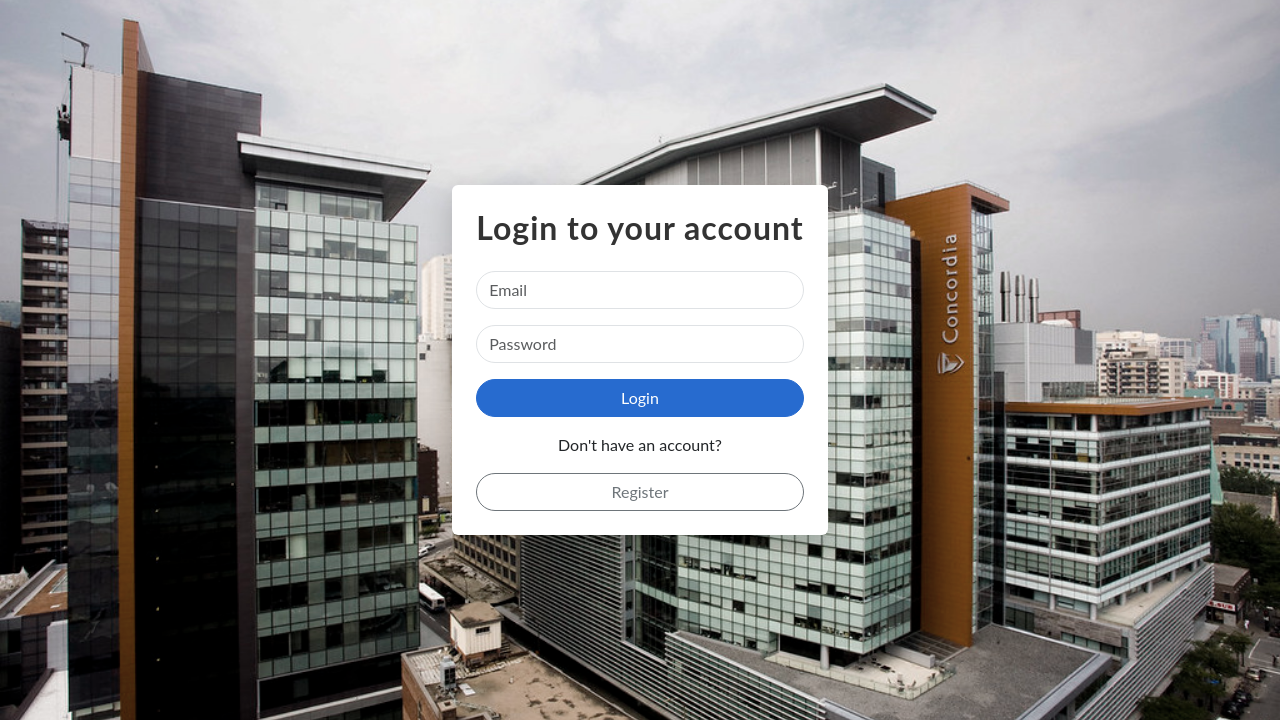
Test case: shows error message on invalid credentials
Type "invalid@example.com" into the field with placeholder "Email" at (640,290), box [476,271,804,309]
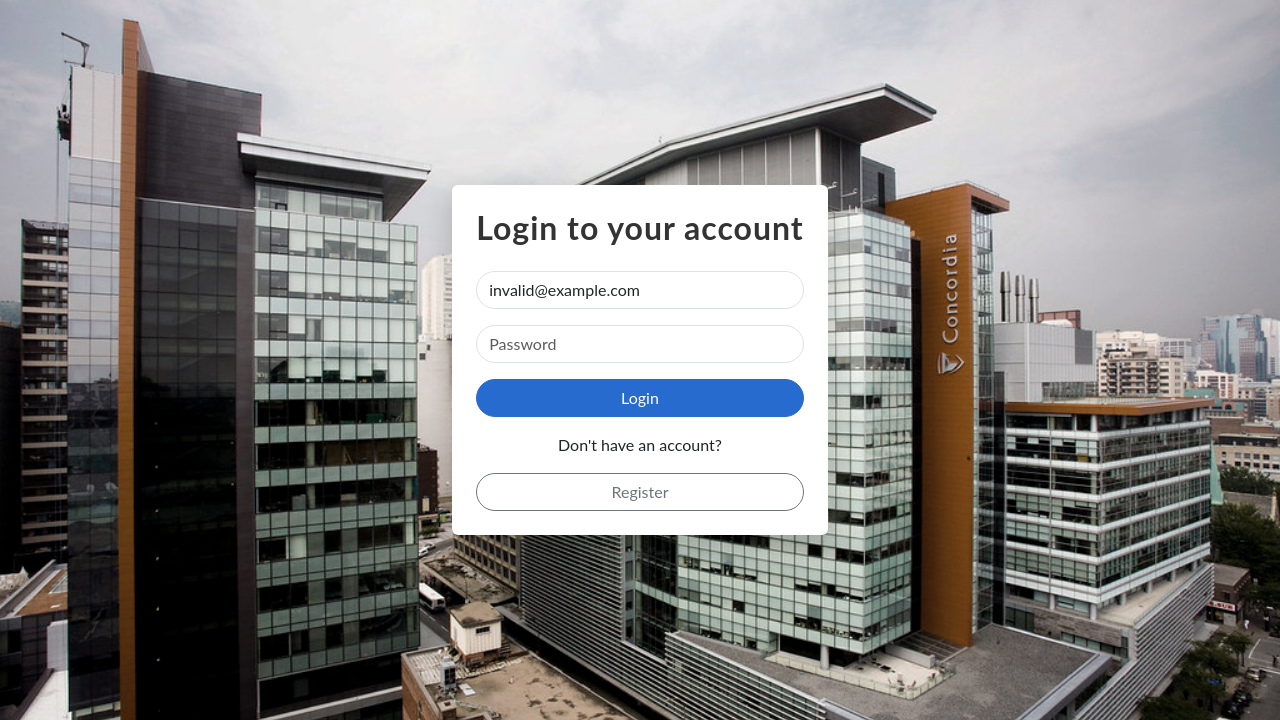
Type "wrongpassword" into the password field with placeholder "Password" at (640,344), box [476,325,804,363]
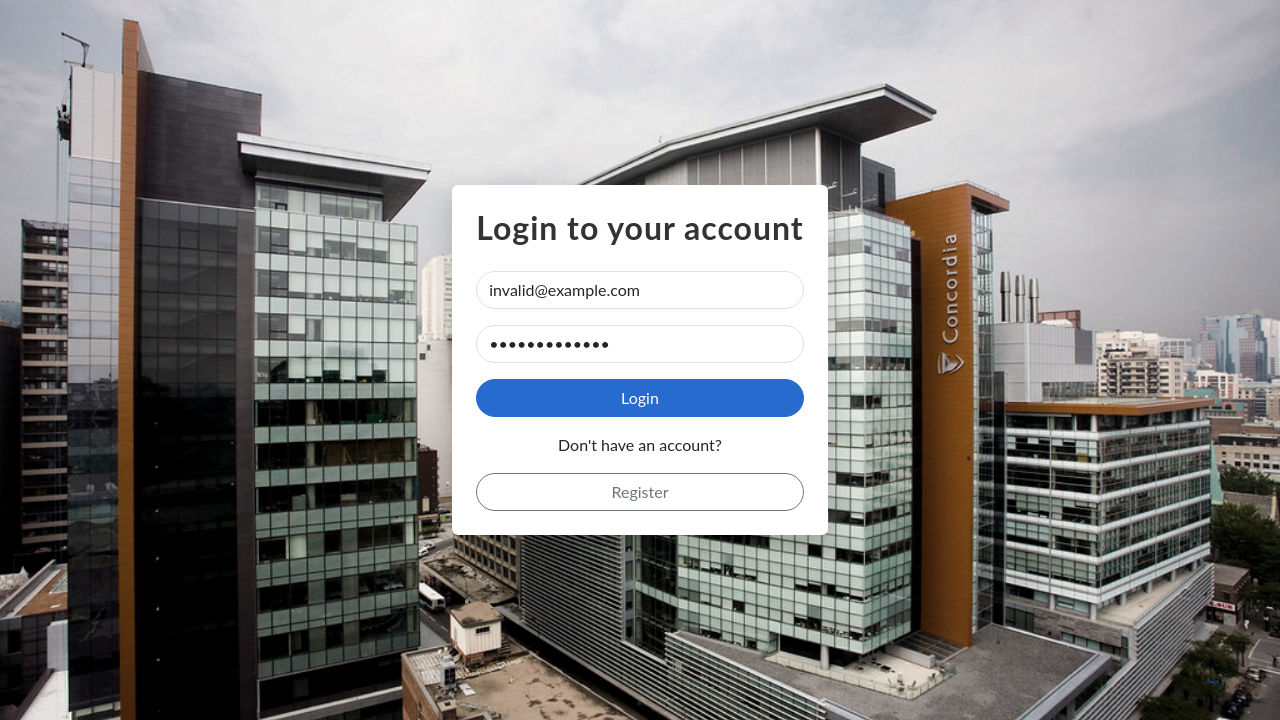
Click the button "Login" at (640,398), box [476,379,804,417]
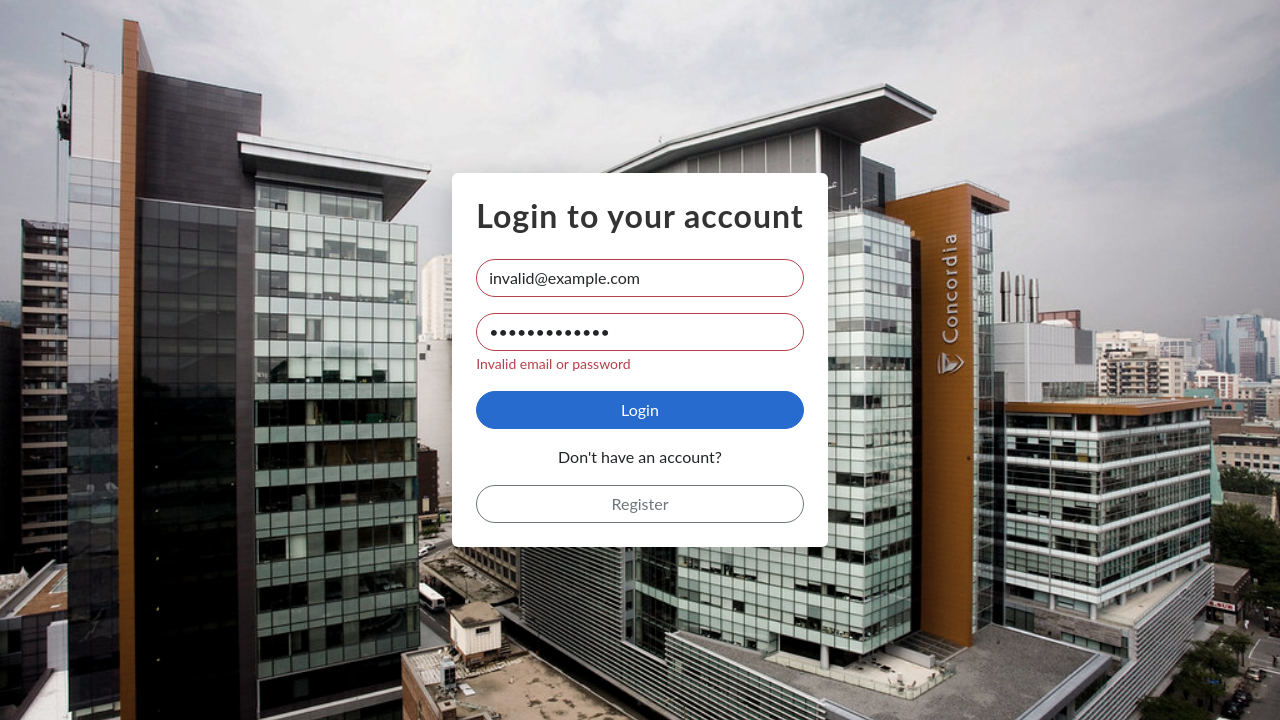
expect the text "Invalid email or password" is shown: met, box [476,355,631,372]
